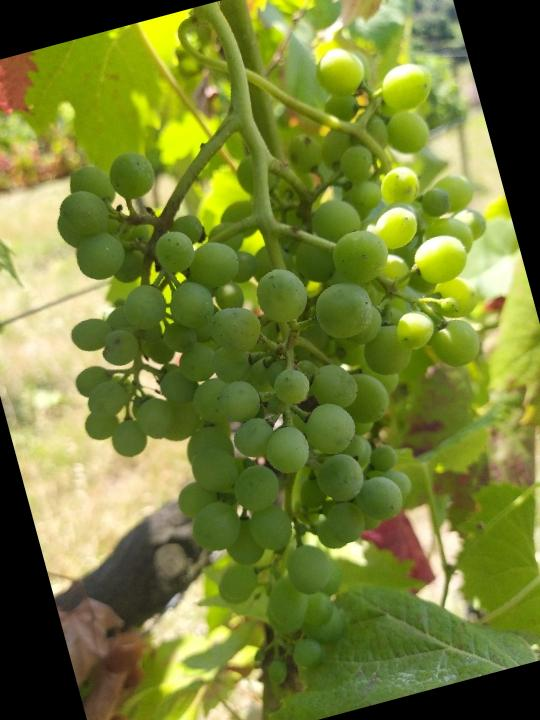grape: (2, 20, 540, 720)
